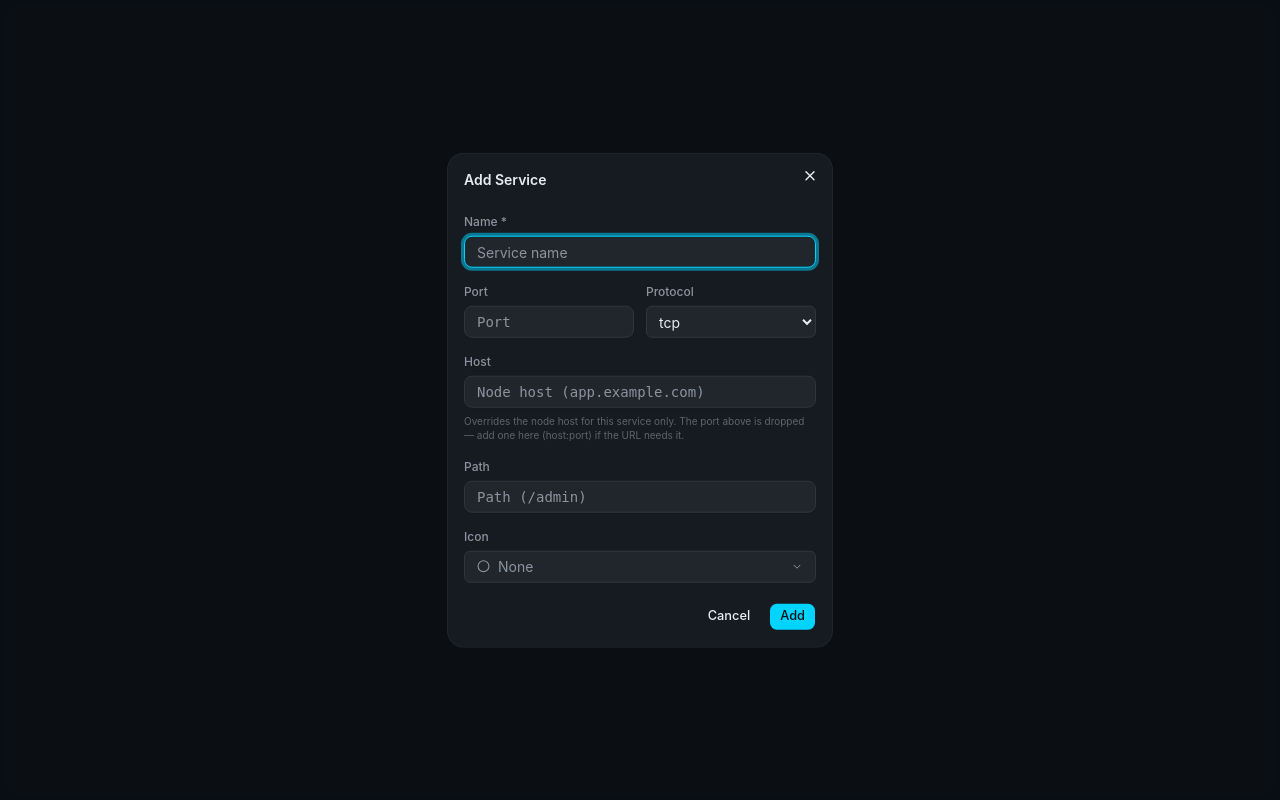
Test: ServiceModal › form submission › clears the name error once the user types
Click the button "Add" at (793, 616), box [769, 602, 816, 630]
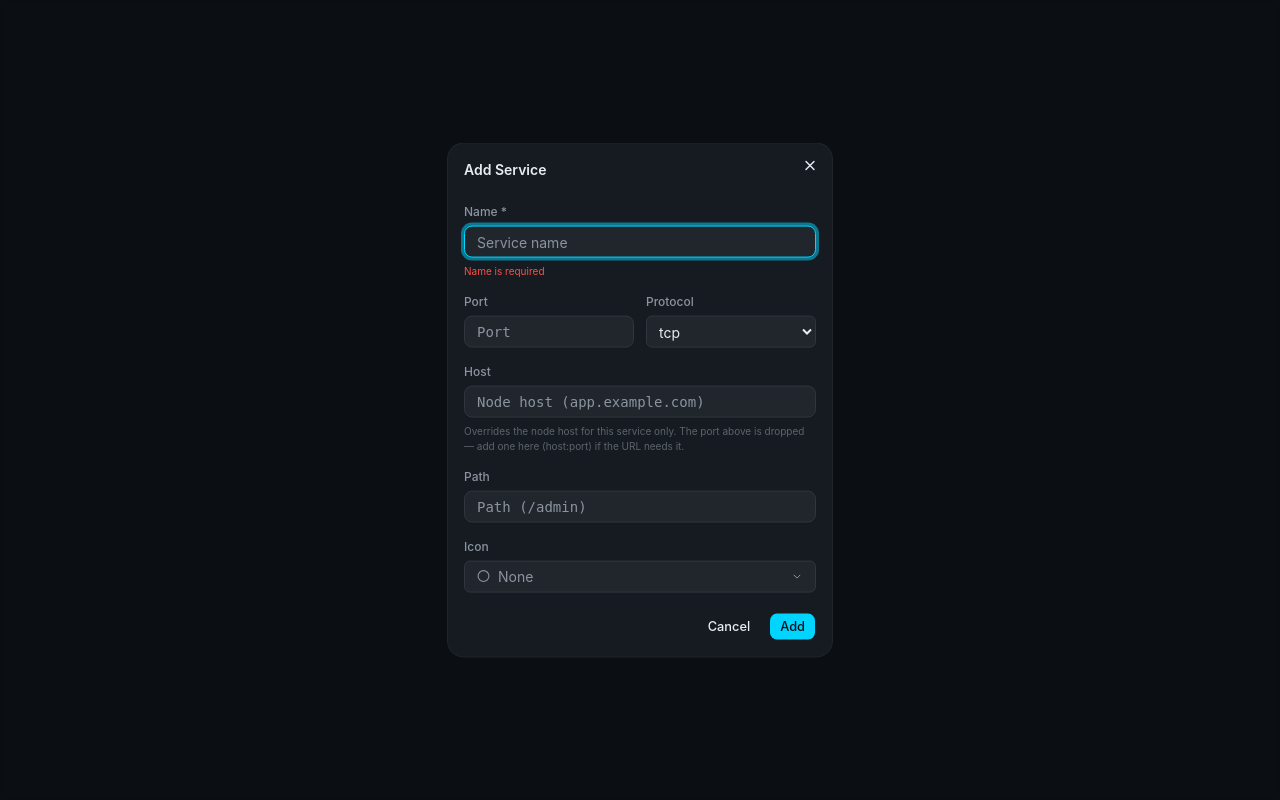
Check: the text "Name is required" is shown, box [464, 265, 544, 277]
Type "n" into the field with placeholder "Service name" at (640, 242), box [464, 226, 816, 258]
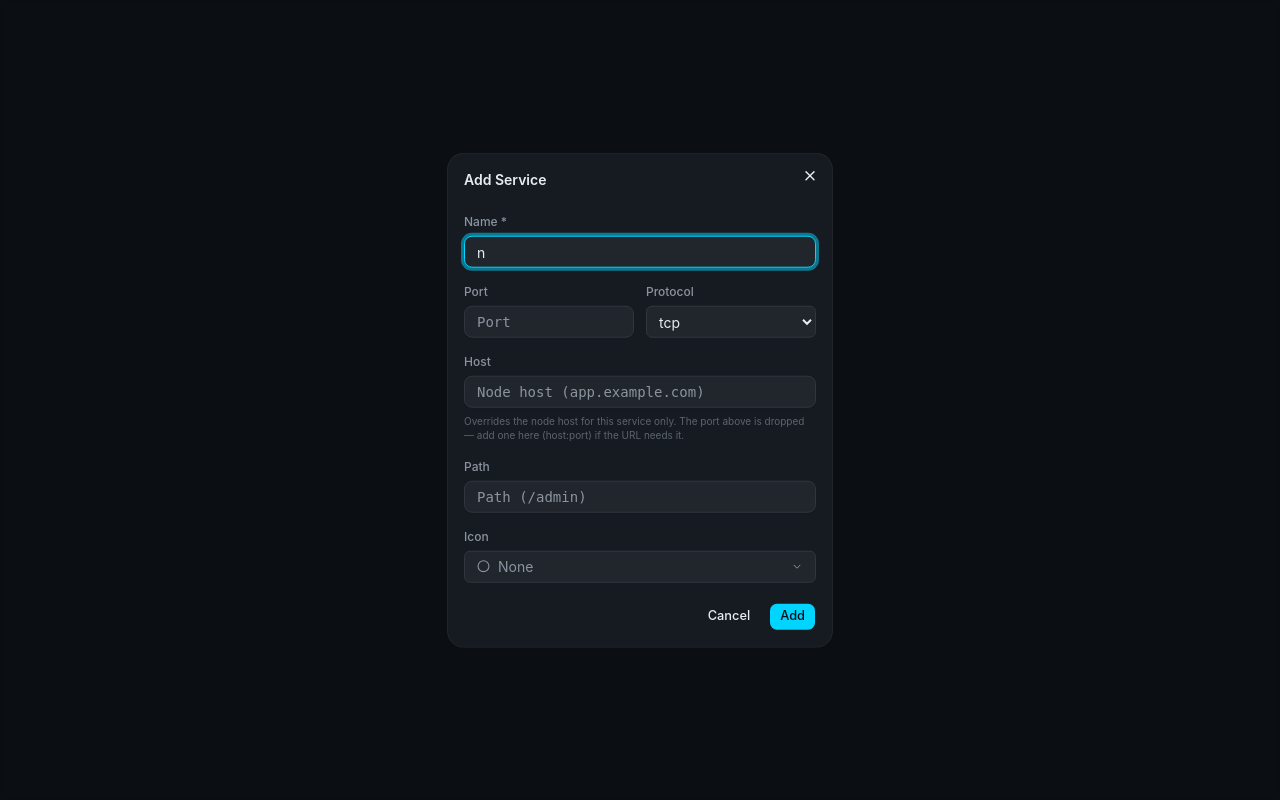
Check: the text "Name is required" is gone
